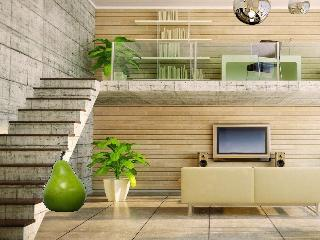pear: (41, 150, 88, 213)
